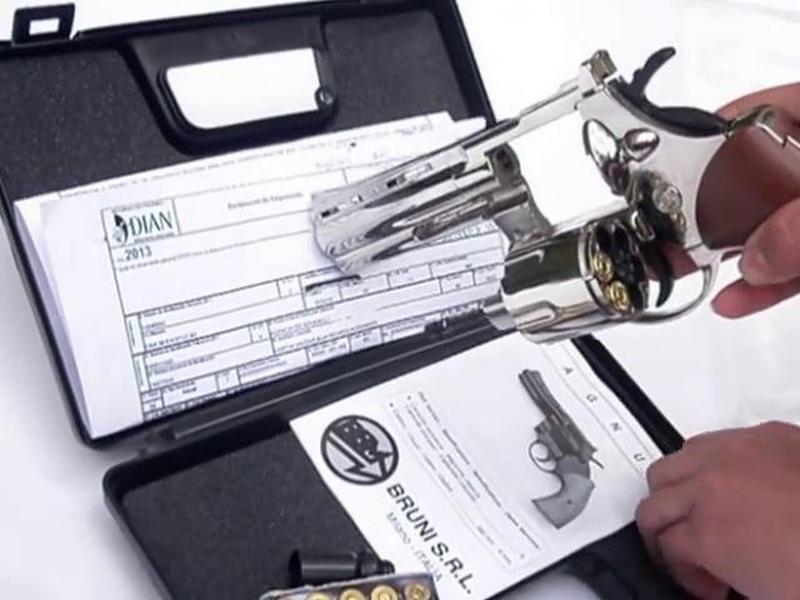Revolver: (302, 36, 800, 343)
